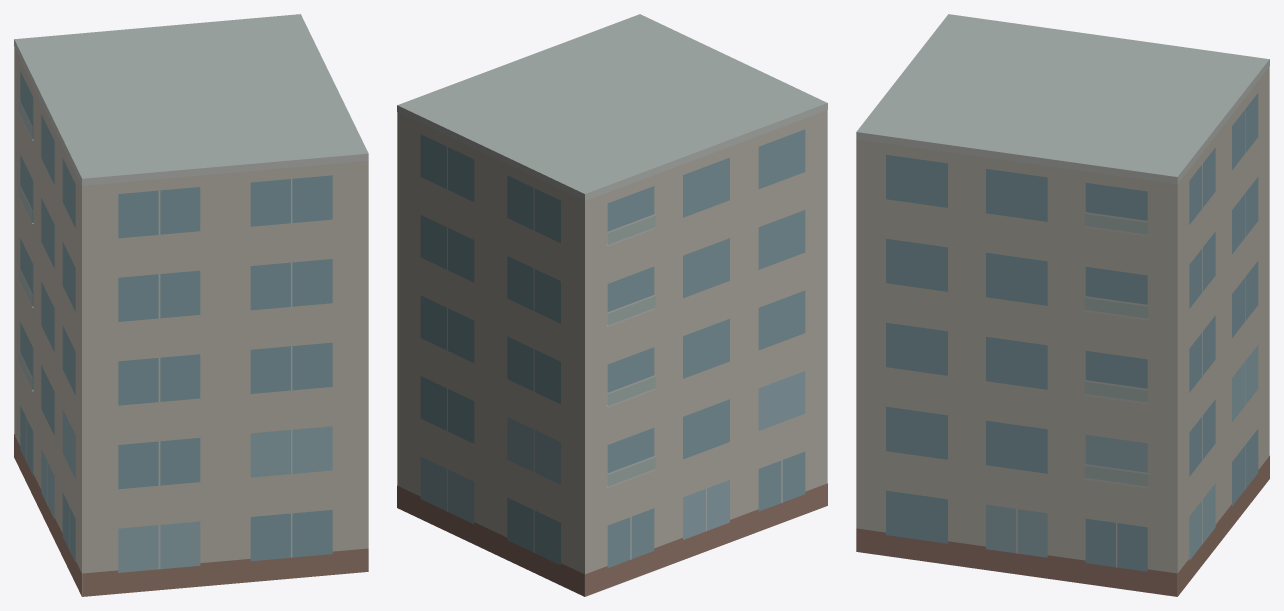
Rendered from survey-upis-32539726.glb.
The picture shows the model from 3 angles, left to right: view 1: azimuth 30°, elevation 25°; view 2: azimuth 150°, elevation 25°; view 3: azimuth 270°, elevation 25°; orthographic projection. The views are drawn at different scales.
Parts seen in each view (by area): view 1: survey-upis-32539726.tmp; view 2: survey-upis-32539726.tmp; view 3: survey-upis-32539726.tmp.
Part boxes in pixels (<box>): survey-upis-32539726.tmp: <box>14,14,368,596</box>; survey-upis-32539726.tmp: <box>397,14,827,596</box>; survey-upis-32539726.tmp: <box>856,14,1269,596</box>.
Bounding box in the file's own units: 11.92 × 14.3 × 12.77.
